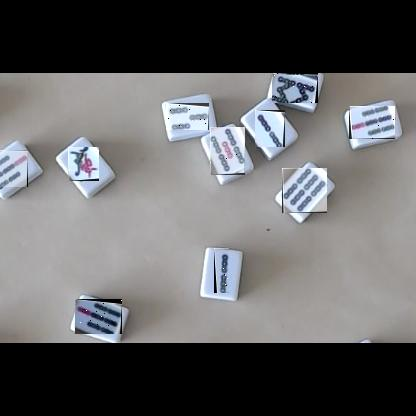1s: (68, 147, 99, 181)
2s: (255, 110, 285, 147), (214, 248, 229, 293)
3s: (166, 103, 209, 130)
5s: (210, 127, 245, 175)
6s: (282, 168, 327, 213)
7s: (75, 299, 122, 334), (349, 106, 395, 139), (0, 150, 28, 187)
8s: (272, 73, 318, 103)
